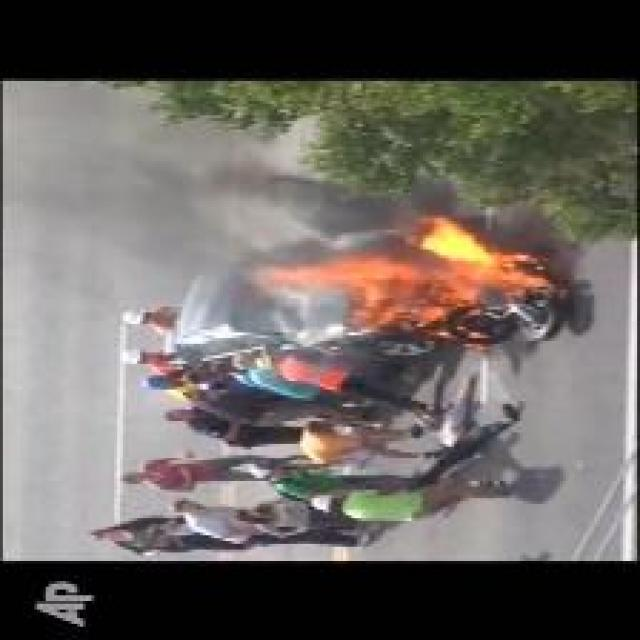Fire: (258, 212, 556, 338)
